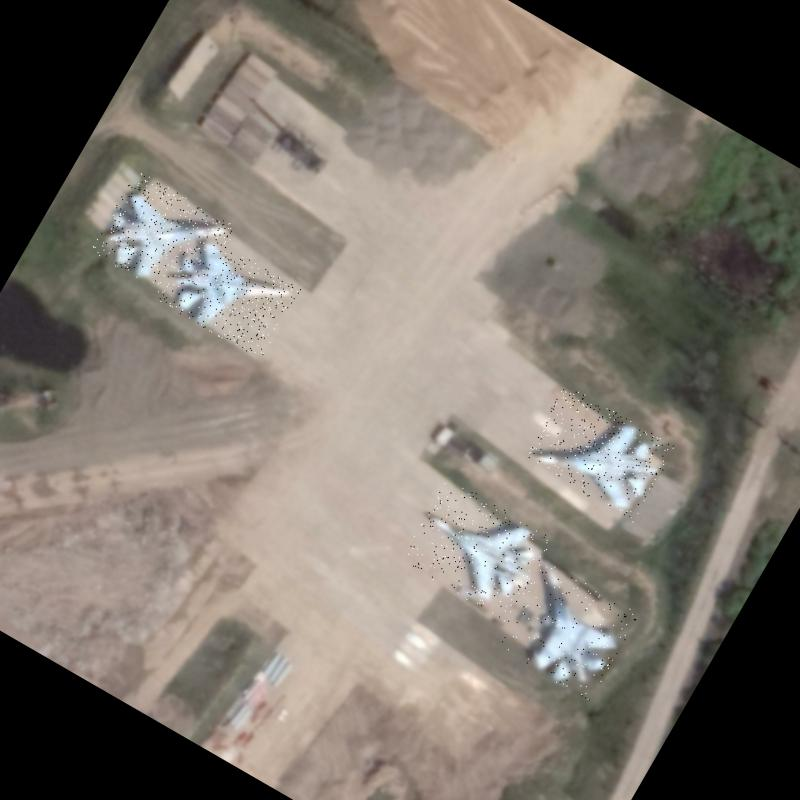A1: (399, 477, 556, 624), (522, 384, 676, 522), (494, 560, 641, 702), (90, 170, 238, 310), (152, 228, 300, 360)
